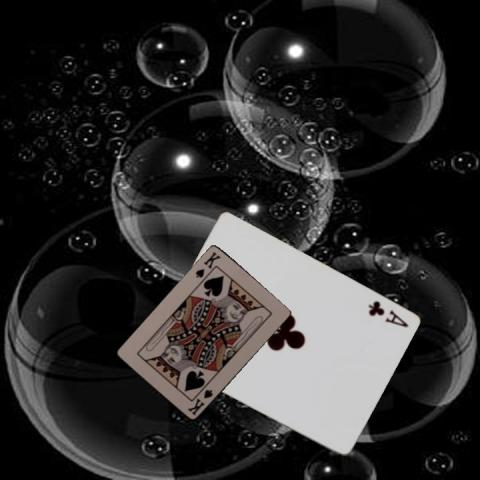Ac: (364, 298, 409, 330)
Ks: (192, 250, 222, 280), (185, 387, 214, 417)
